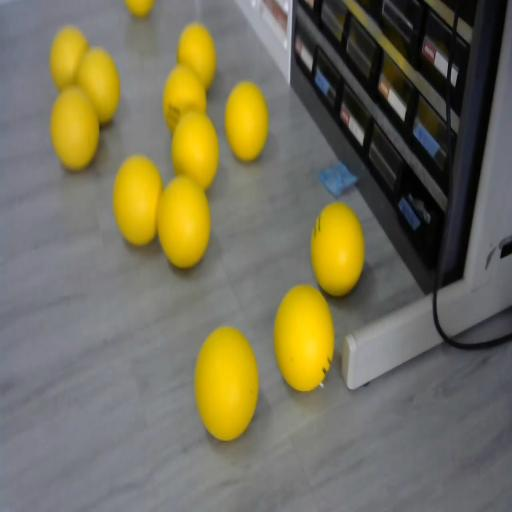FUEL: (194, 327, 258, 441), (272, 283, 335, 390), (156, 174, 211, 268), (310, 202, 364, 296), (112, 154, 163, 246), (49, 86, 100, 171), (170, 111, 220, 191), (224, 81, 270, 161), (177, 22, 217, 91), (49, 26, 89, 92), (122, 0, 156, 18)
